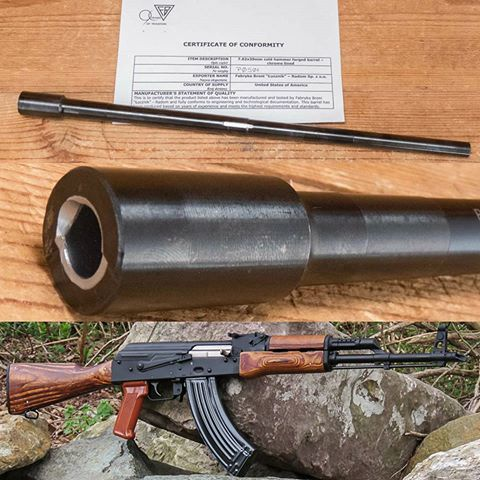ak47: (7, 327, 462, 472)
